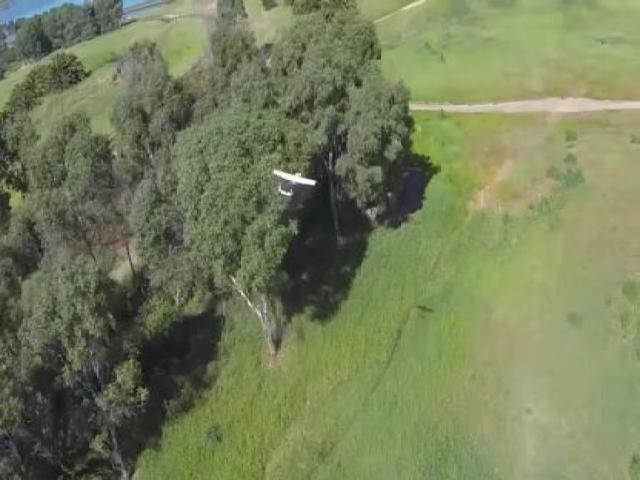uav: (269, 163, 320, 196)
